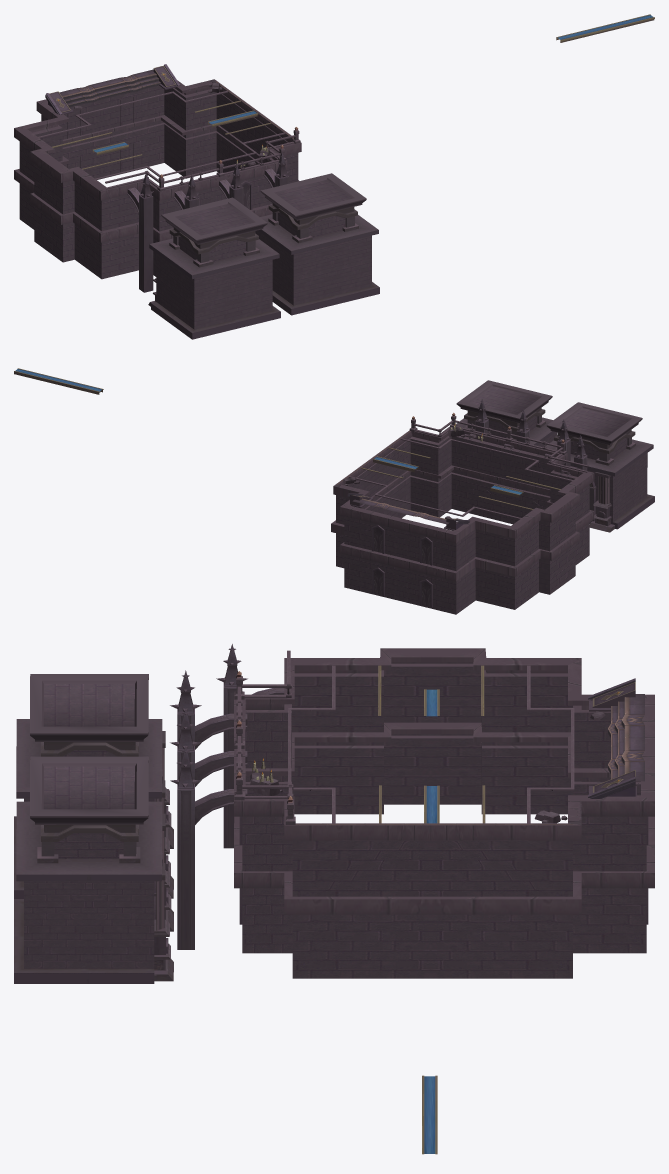
Rendered from SD_xs_jizuo01.FBX.
The picture shows the model from 3 angles, top to bottom: view 1: azimuth 30°, elevation 25°; view 2: azimuth 150°, elevation 25°; view 3: azimuth 270°, elevation 25°; orthographic projection. The views are drawn at different scales.
Parts seen in each view (by area): view 1: SD_xs_jizuo01; view 2: SD_xs_jizuo01; view 3: SD_xs_jizuo01.
Part boxes in pixels (x1,y1,x2,y2): SD_xs_jizuo01: [14, 14, 654, 339]; SD_xs_jizuo01: [14, 368, 654, 614]; SD_xs_jizuo01: [14, 644, 654, 1154].
Bounding box in the file's own units: 2344 × 435 × 1256.
